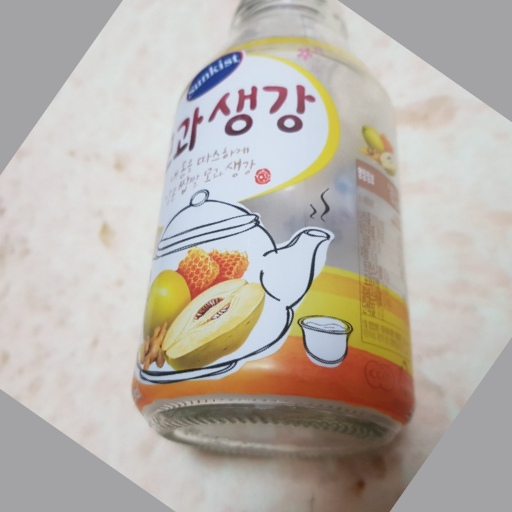Glass_4: (134, 2, 411, 453)
